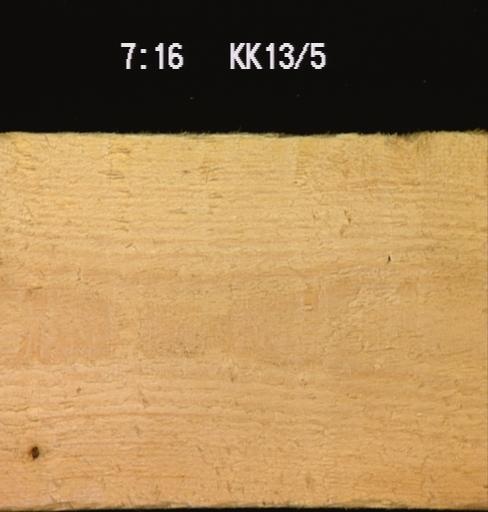small_knot: (25, 439, 43, 464)
wave: (304, 490, 412, 507)
